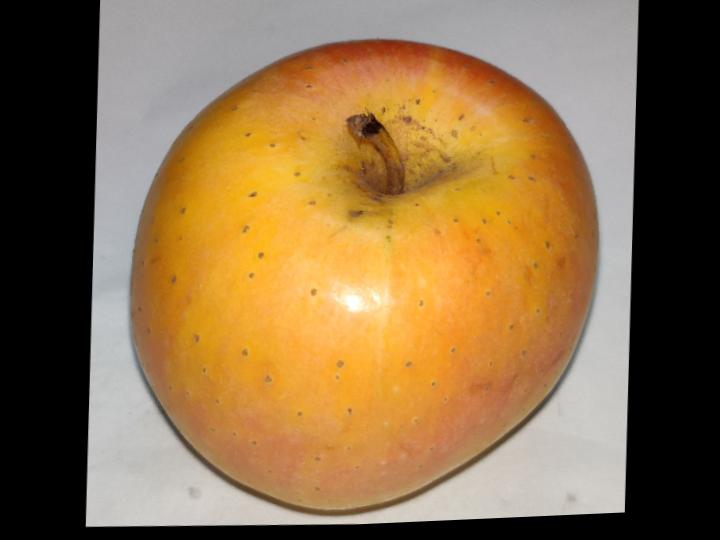apple: (132, 40, 597, 515)
